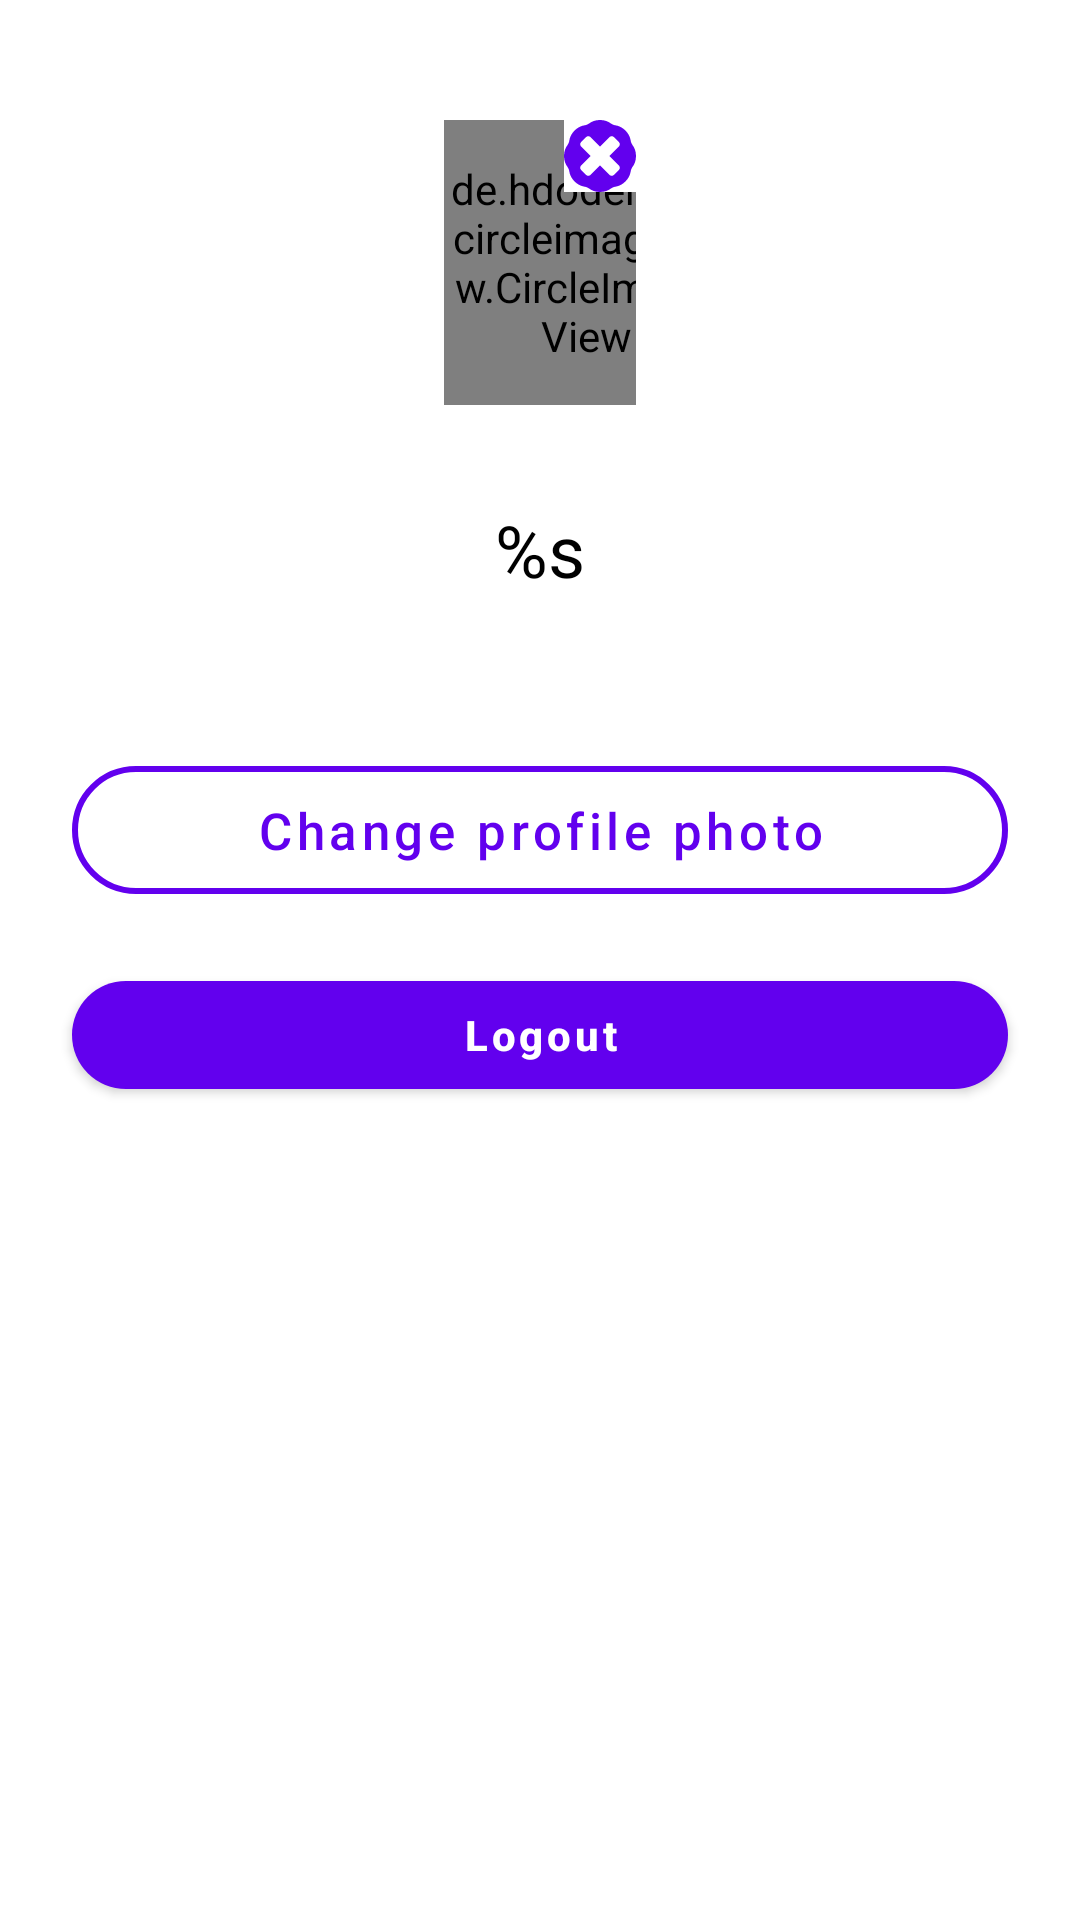

Point at icon controls on the screen. Image size 1080×1920, points as (x,y).
delete: (600,156)
